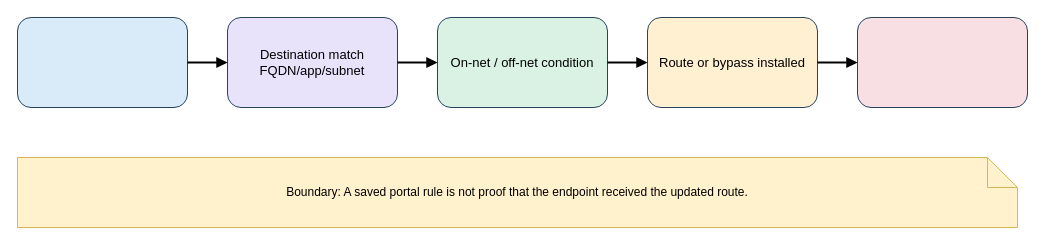
Image size: 1045x245. Some labels were removed from this diagram. Here are the shapes that lost their labels. From the top down, the centre of each, then its label:
the point at 102,62: Endpoint profile connection rules
the point at 942,62: Local egress or cloud tunnel
